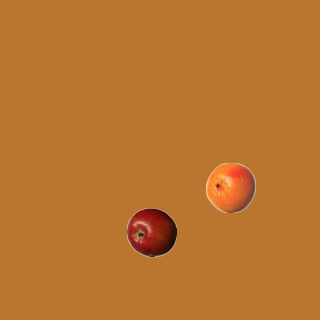Apple Braeburn: (126, 207, 176, 257)
Grapefruit Pink: (205, 162, 255, 212)
